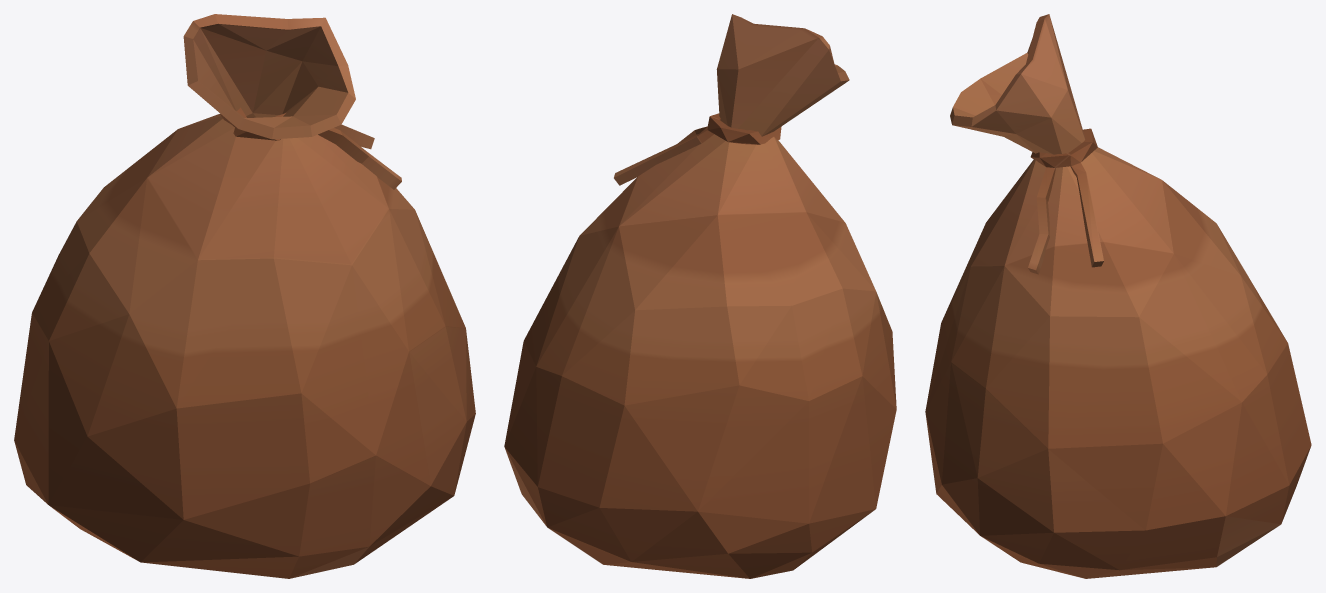
The model's file is SM_Sack_01.glb.
3 views of the same model, side by side, from view 1: azimuth 30°, elevation 25°; view 2: azimuth 150°, elevation 25°; view 3: azimuth 270°, elevation 25° (orthographic). The views are drawn at different scales.
Visible parts, largest first — view 1: SM_Sack_01; view 2: SM_Sack_01; view 3: SM_Sack_01.
Boxes of the visible parts, x1,y1,x2,y2 form: SM_Sack_01: (14,14,475,578); SM_Sack_01: (504,14,896,578); SM_Sack_01: (925,14,1311,578).
Size of the model in its own units: 0.5816 by 0.7778 by 0.5715.
Materials: 1 (1 with a texture image).
